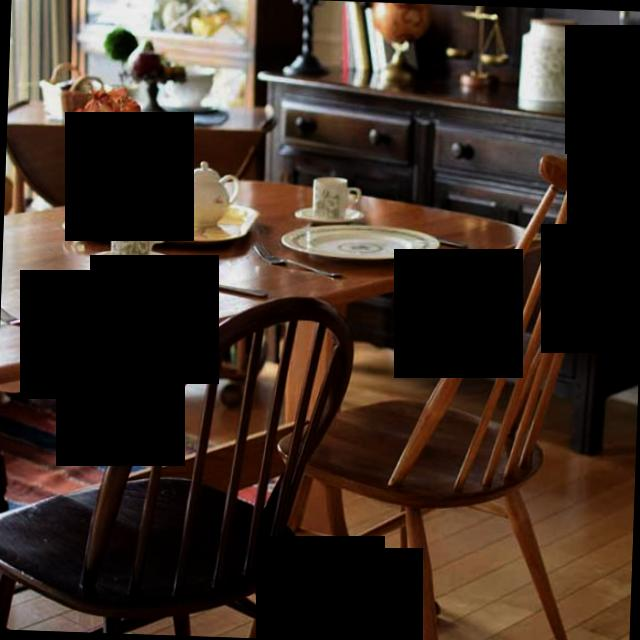vintage chair: (0, 281, 367, 640)
